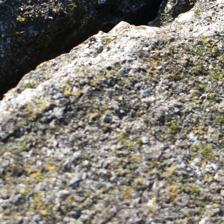Crack: (3, 2, 179, 97)
